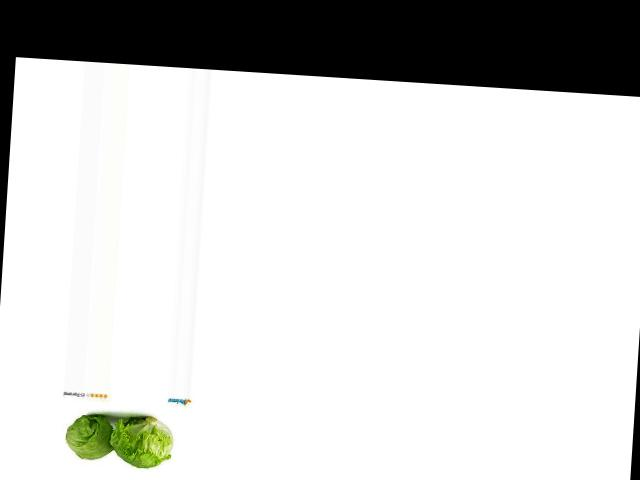lettuce: (62, 402, 130, 462)
